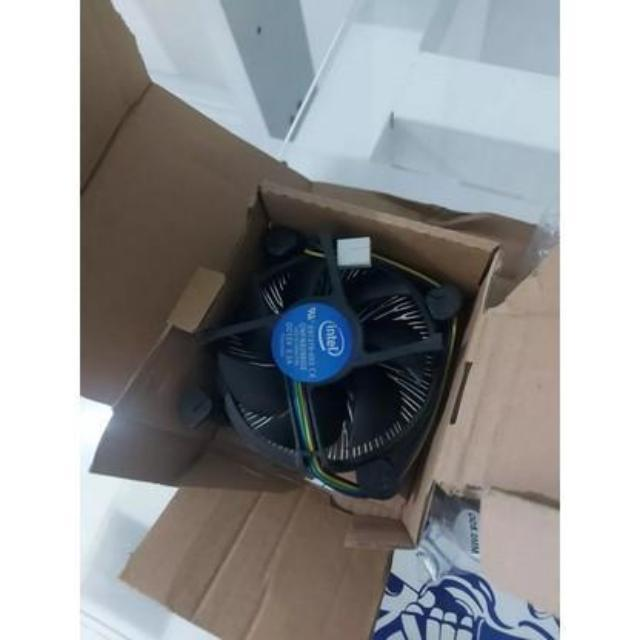CPU_Fan: (170, 221, 461, 496)
